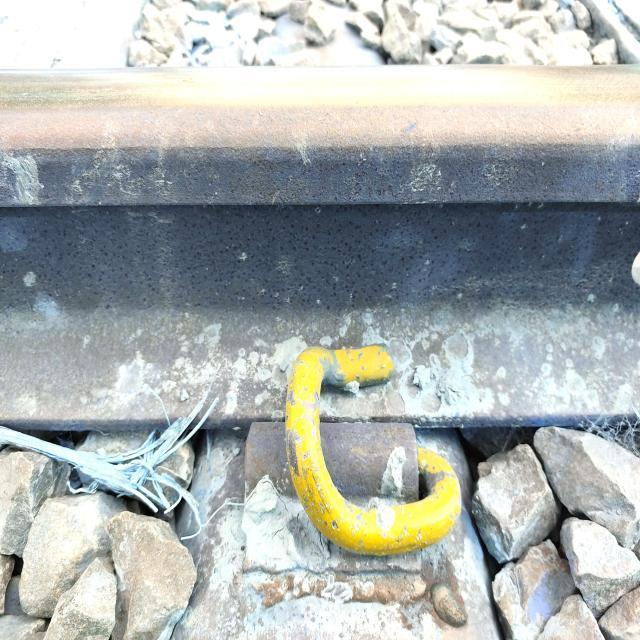Good Fasteners: (242, 346, 461, 572)
